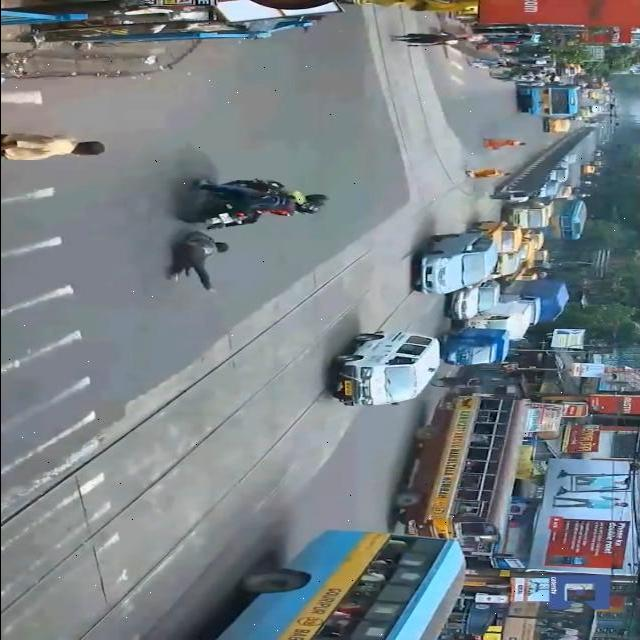accident: (162, 227, 230, 292)
